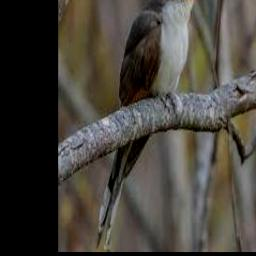Cuckoo: (96, 0, 208, 249)
